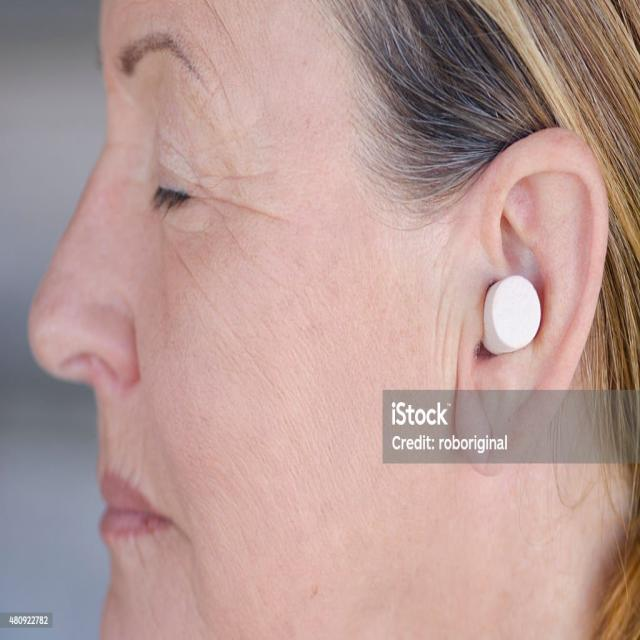Dry-Skin: (127, 505, 290, 640), (187, 232, 311, 379)
